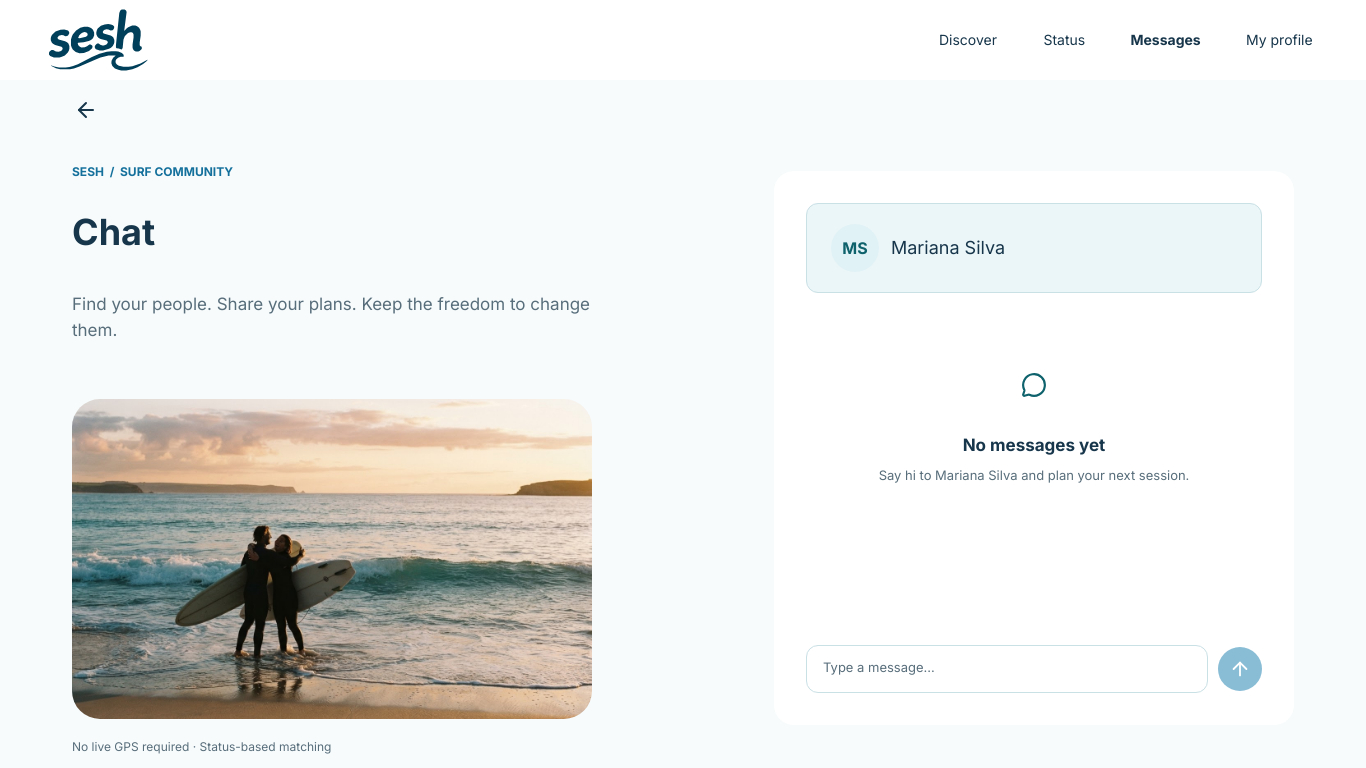
Test: sending › a failed send keeps the draft and explains; trying again works
Expected: the heading "No messages yet" is shown, left=963, top=432, right=1105, bottom=458
Click the text box labelled "message" at (1007, 668), box left=806, top=644, right=1208, bottom=692
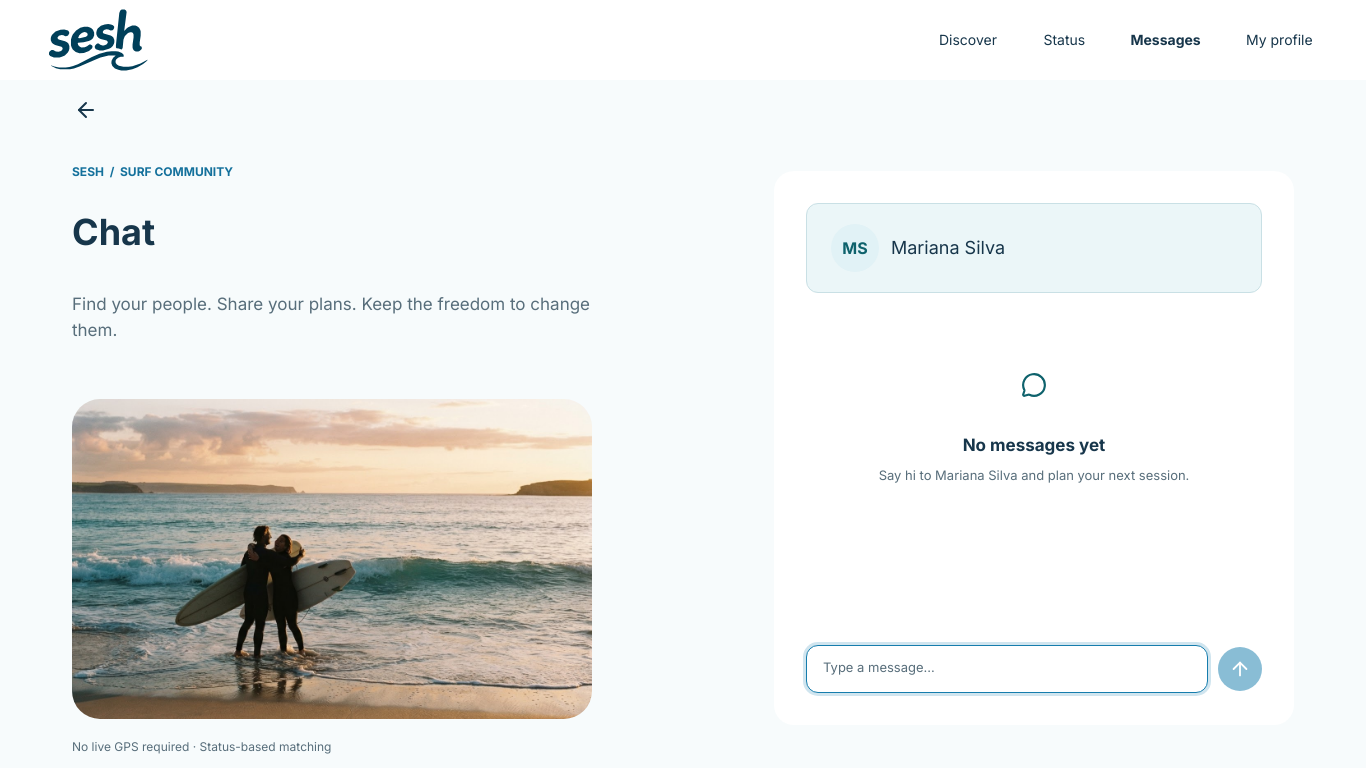
Type keys "See you at 4{Enter}"
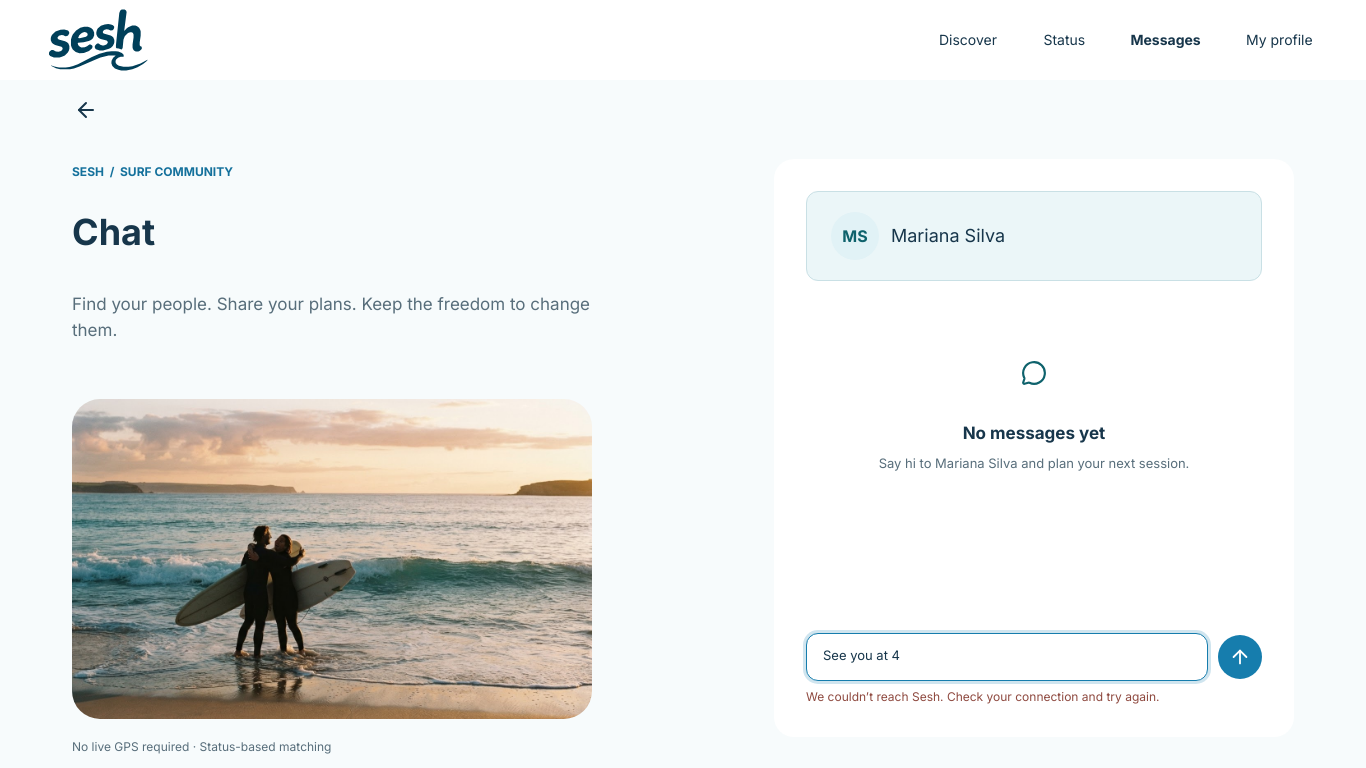
Expected: the message shows "We couldn’t reach Sesh", left=806, top=688, right=1159, bottom=704
Expected: the text box named "message" holds "See you at 4", left=806, top=632, right=1208, bottom=680
Press Enter
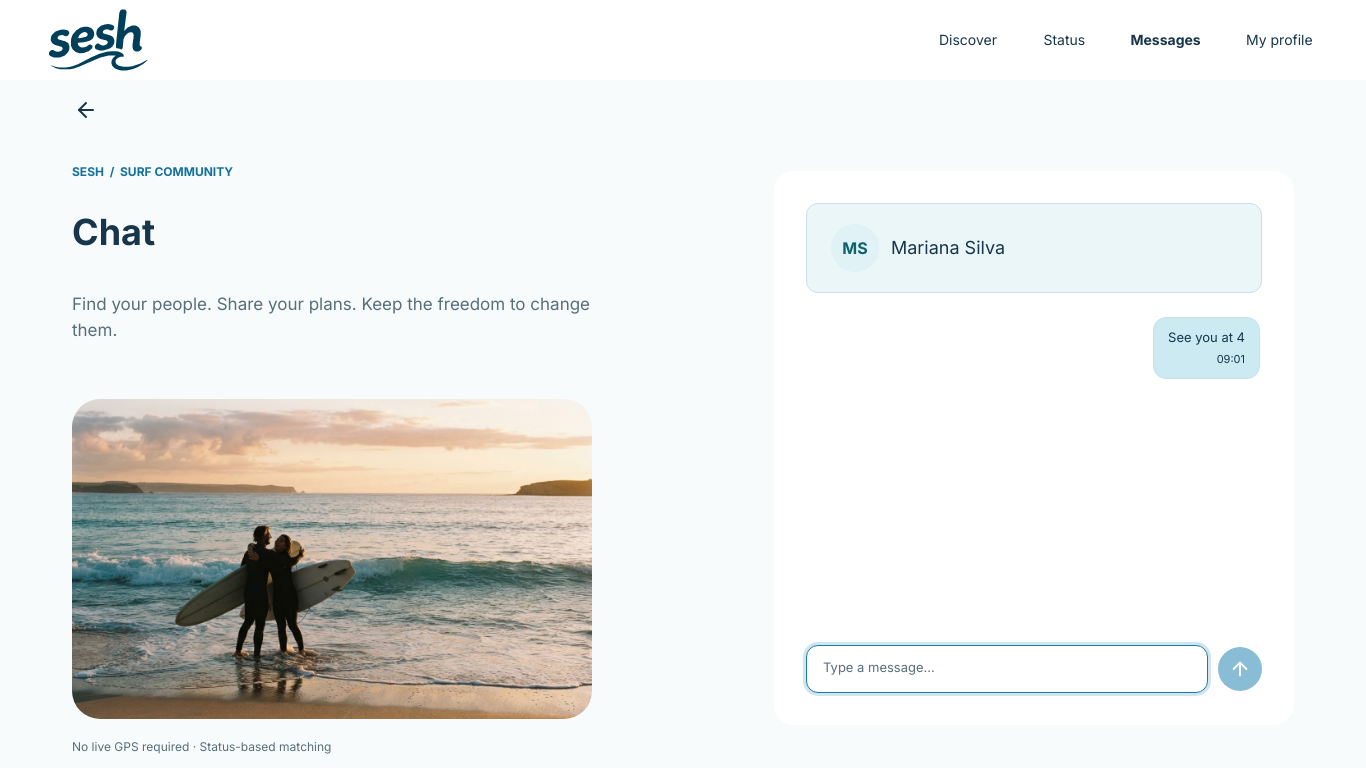
Expected: the text box labelled "message" is empty, left=806, top=644, right=1208, bottom=692
Expected: the message "We couldn’t reach Sesh. Check your connection and try again." is gone
